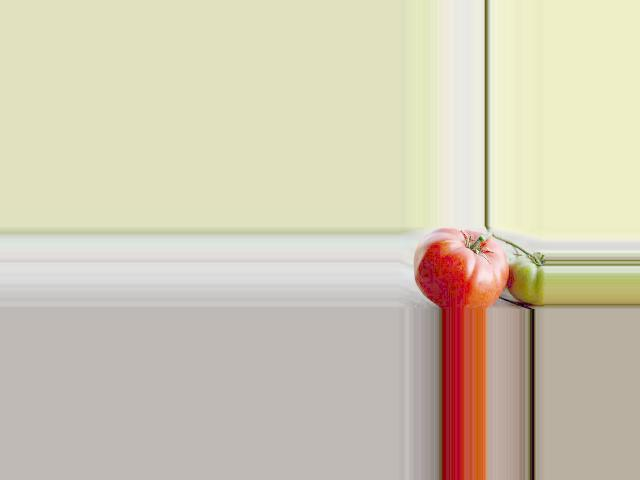tomato: (412, 227, 508, 310)
